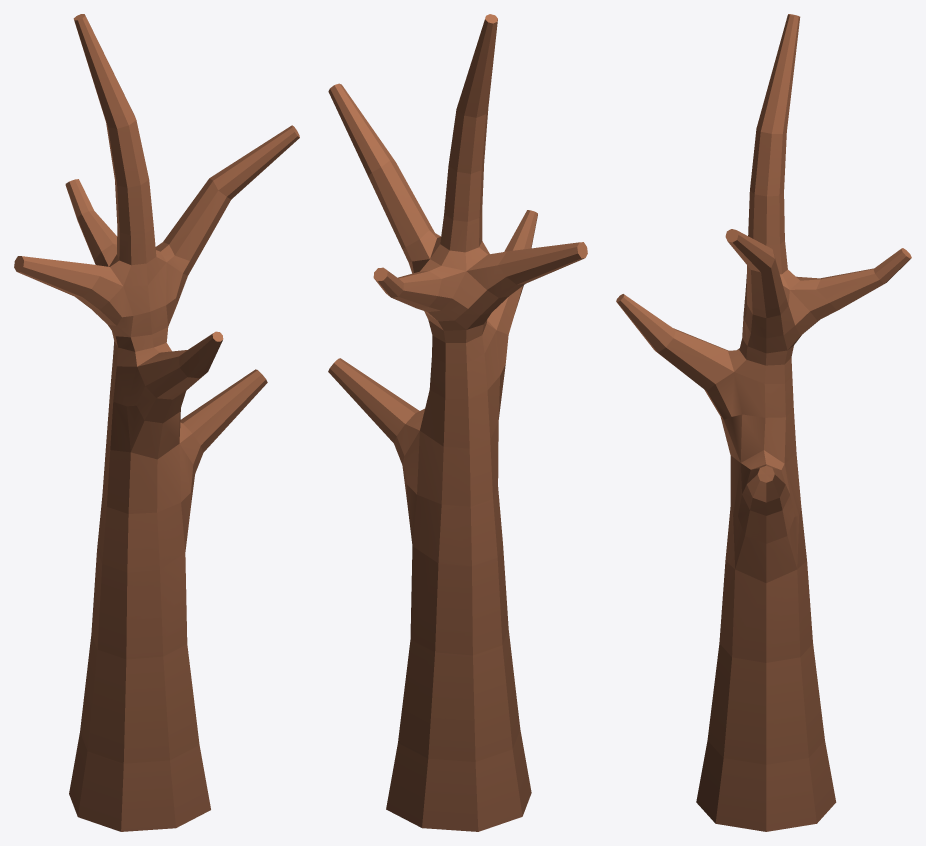
The model's file is dry tree 2.fbx.
3 views of the same model, side by side, from view 1: azimuth 30°, elevation 25°; view 2: azimuth 150°, elevation 25°; view 3: azimuth 270°, elevation 25° (orthographic). The views are drawn at different scales.
Visible parts, largest first — view 1: dry tree 2; view 2: dry tree 2; view 3: dry tree 2.
Part boxes in pixels (x1=…): dry tree 2: x1=14, y1=14, x2=299, y2=831; dry tree 2: x1=328, y1=14, x2=587, y2=831; dry tree 2: x1=616, y1=14, x2=911, y2=831.
Size of the model in its own units: 169 by 477 by 167.
